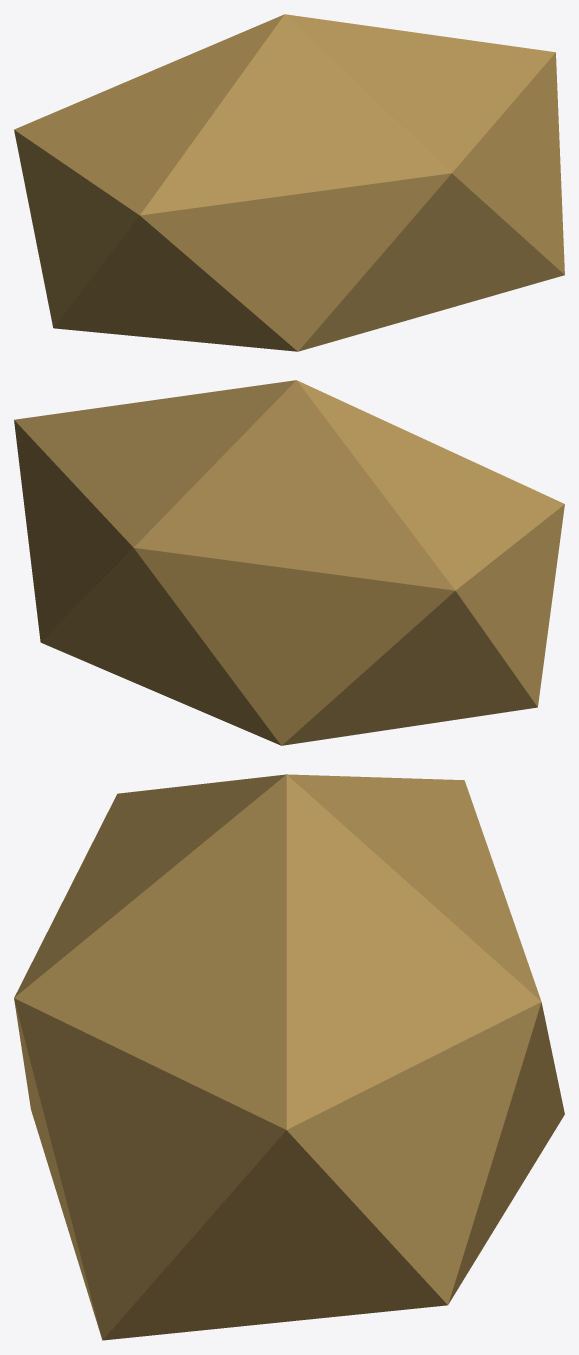
File: w3d_item_wild_grain_s.glb
3 views of the same model, one above another, from view 1: azimuth 30°, elevation 25°; view 2: azimuth 150°, elevation 25°; view 3: azimuth 270°, elevation 25° (orthographic). The views are drawn at different scales.
Parts seen in each view (by area): view 1: item_019_wild_grain_s; view 2: item_019_wild_grain_s; view 3: item_019_wild_grain_s.
Part boxes in pixels (x1,y1,x2,y2): item_019_wild_grain_s: [14, 14, 564, 351]; item_019_wild_grain_s: [14, 380, 564, 745]; item_019_wild_grain_s: [14, 774, 564, 1340].
Bounding box in the file's own units: 0.3216 × 0.2043 × 0.203.
